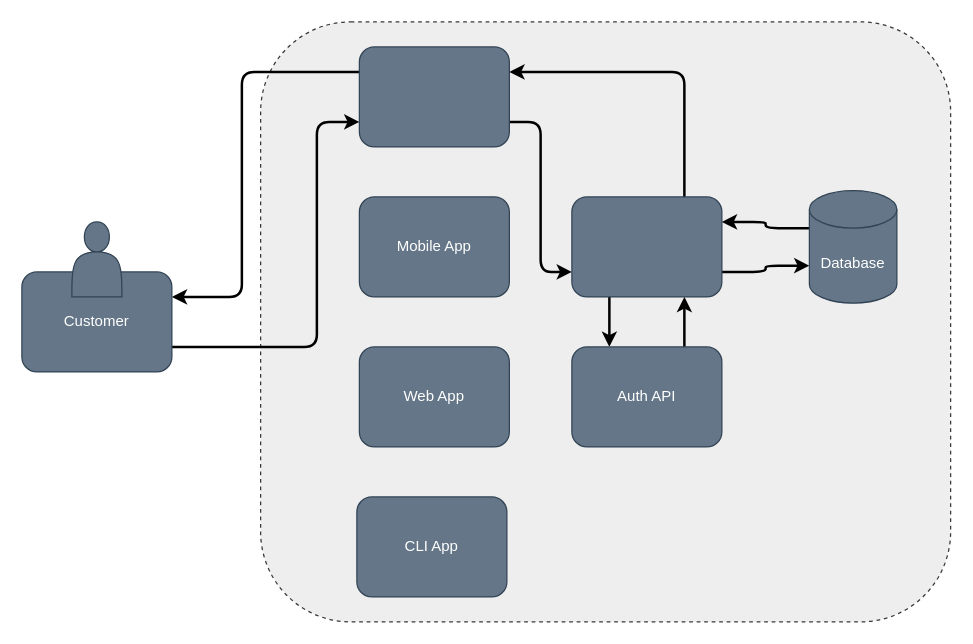
Image size: 973x644. Some labels were removed from this diagram. The shapes that lost their labels are listed below. From the top down, each one's centre as x and y in pixels, then its label:
point (433, 96): Desktop App
point (646, 246): API
